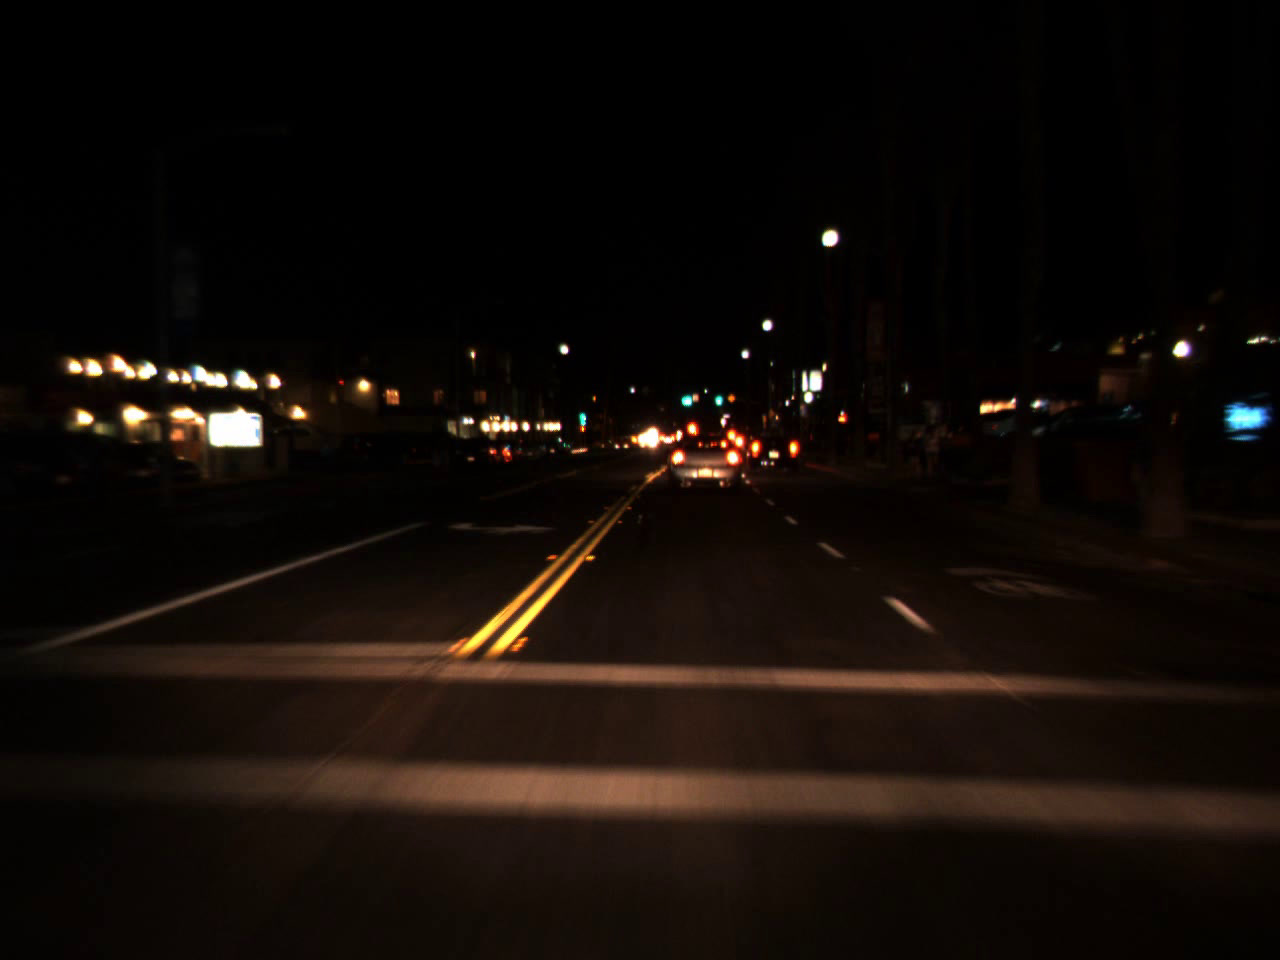go: (677, 381, 695, 411), (713, 385, 723, 409), (578, 402, 585, 426)
